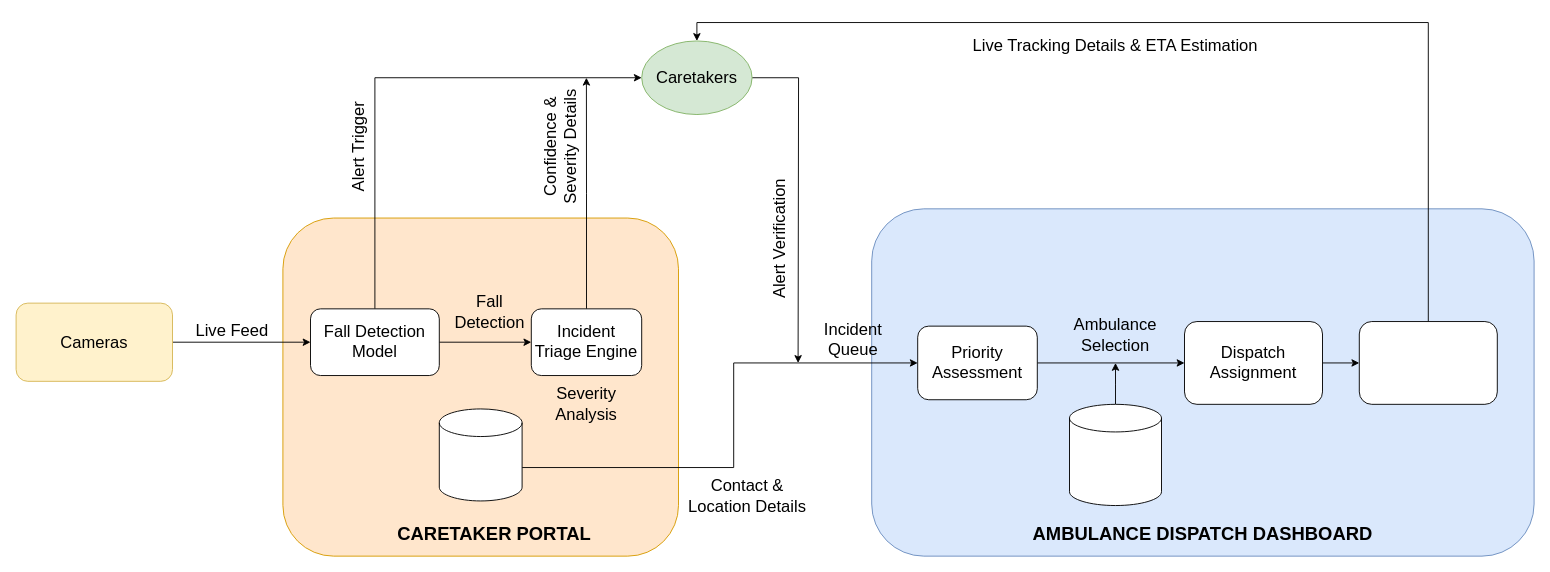
This 1550x572 diagram has some shape labels left out. The centre of each missing label's shape, as x and y in pixels:
Real - time Ambulance Data: (x=1115, y=454)
Routing Engine: (x=1427, y=362)
User Details: (x=480, y=454)
